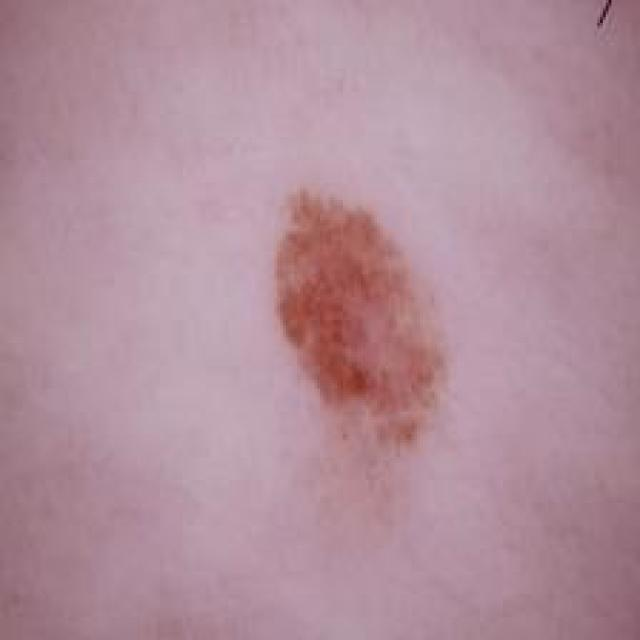Cancer: (267, 193, 457, 459)
